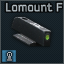M45A1 Novak Lomount front sight: (0, 0, 64, 64)
